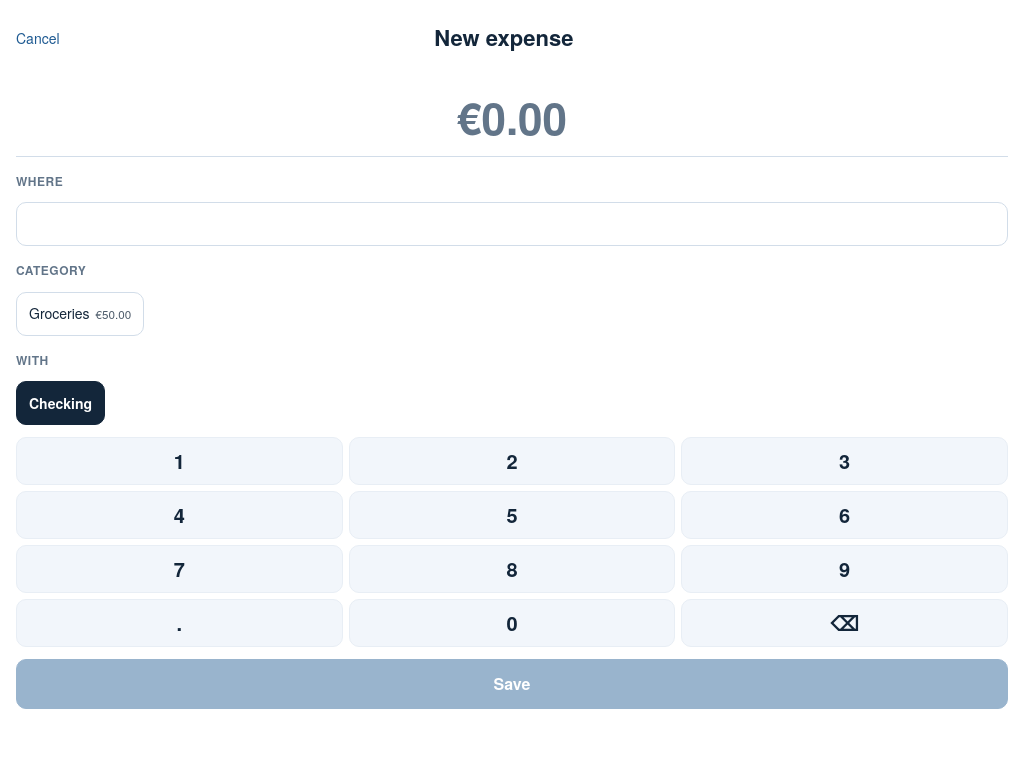
QuickEntryOverlay (#367) › disables saving until an amount and a category are chosen
expect the heading "New expense" is shown: met, box [434,22,573,54]
expect the button "Save" is disabled: met, box [16,659,1008,709]
Click the button "1": (179, 461) [16,437,343,485]
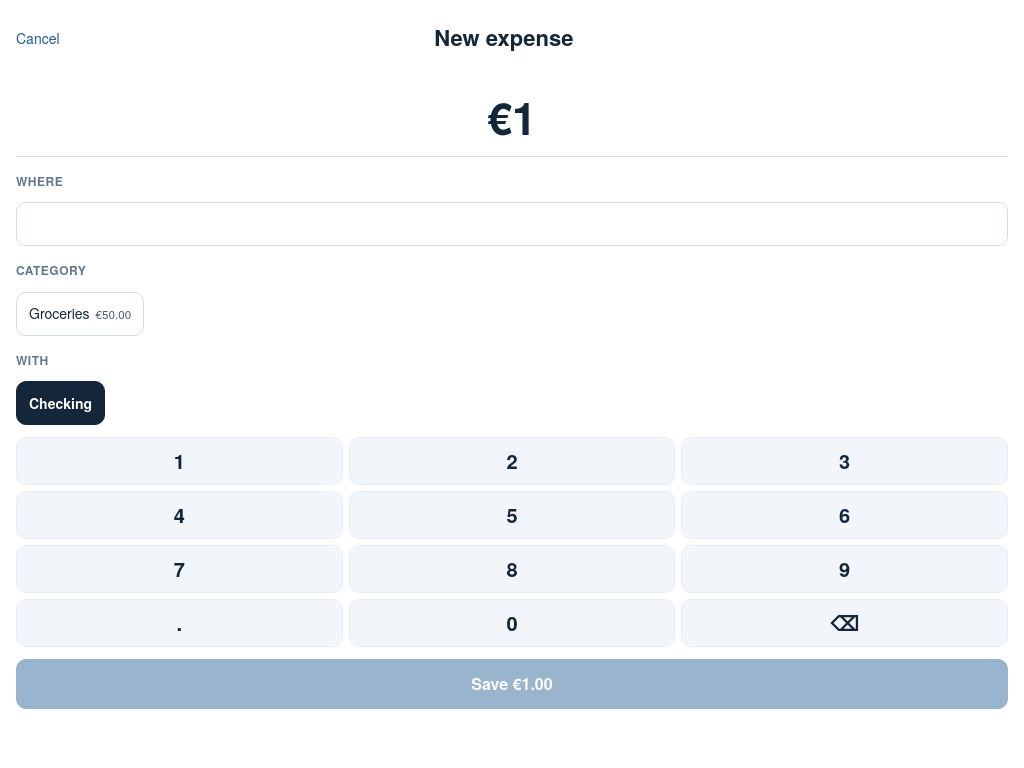
expect the button "Save €1.00" is disabled: met, box [16,659,1008,709]
Click the button "Groceries€50.00": (80, 314) [16,292,144,336]
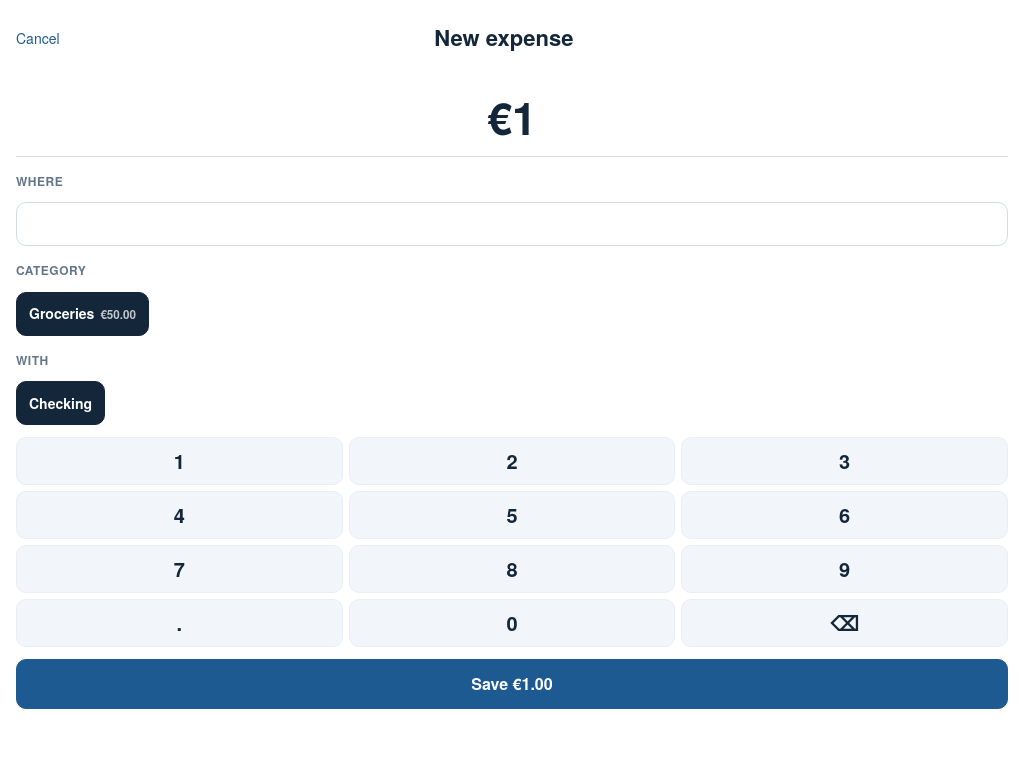
expect the button "Save €1.00" is enabled: met, box [16,659,1008,709]
